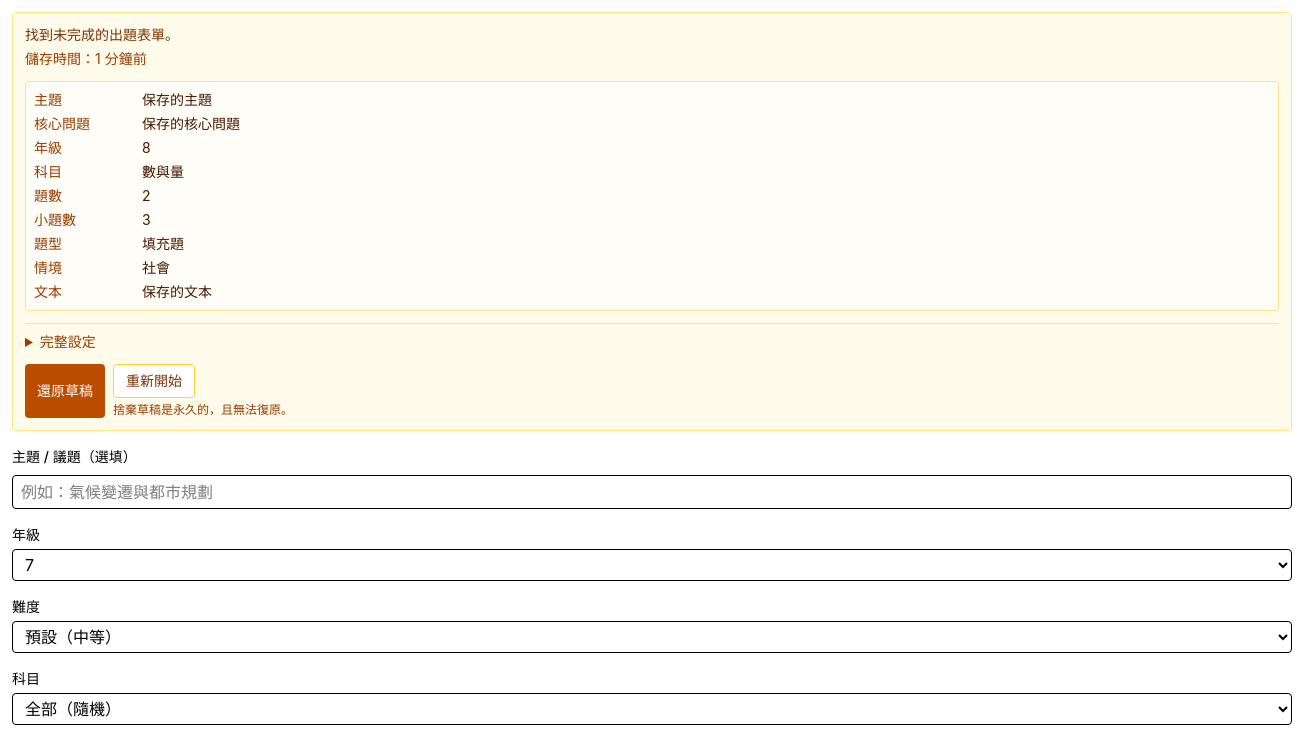
Test: ParamForm draft restoration › shows the saved time and restores every saved field on 還原草稿
Expected: the text "找到未完成的出題表單。" is shown, top-left (25, 26), bottom-right (179, 43)
Expected: the field with placeholder "例如：氣候變遷與都市規劃" is empty, top-left (12, 475), bottom-right (1292, 509)
What coordinates should you click on to do the following:
click the button "還原草稿"
I would click on:
 (65, 391)
Its box is top-left (25, 364), bottom-right (105, 418).
Wait 1000 ms
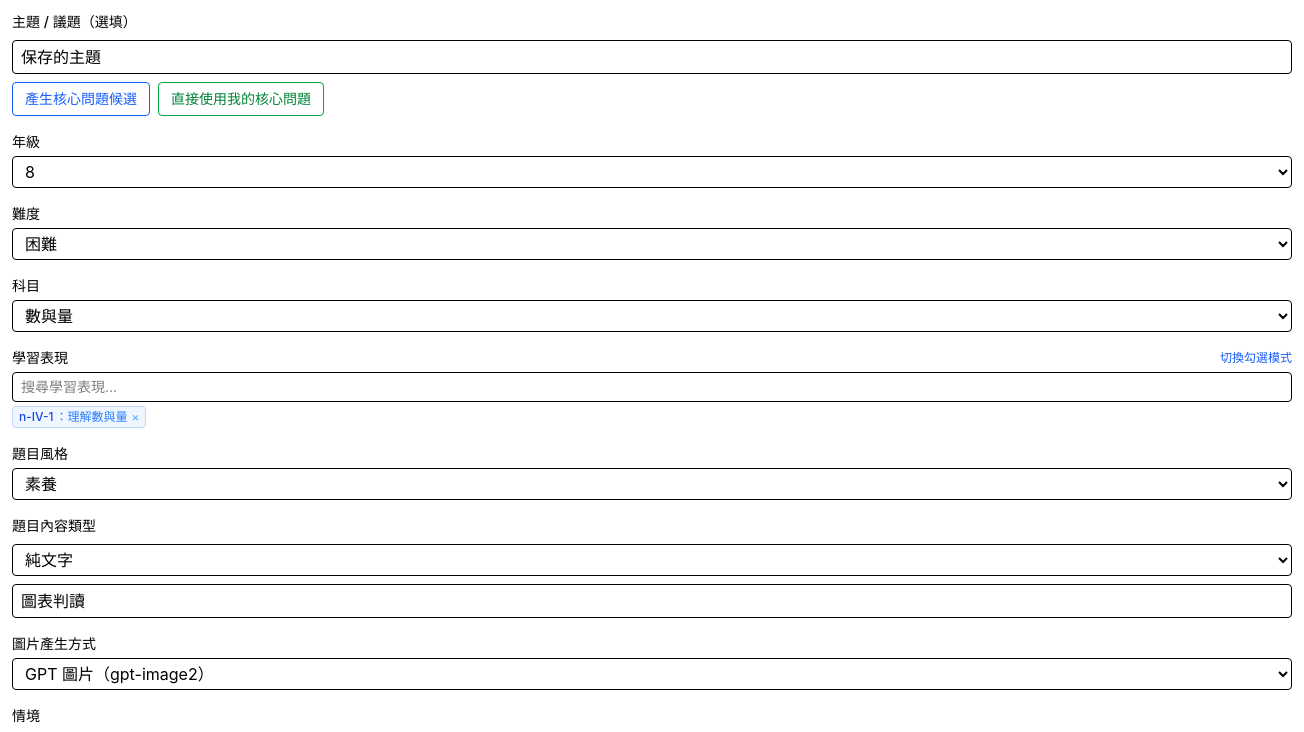
Now the field with placeholder "例如：氣候變遷與都市規劃" holds "保存的主題", box top-left (12, 40), bottom-right (1292, 74)
Now the text "找到未完成的出題表單。" is gone
